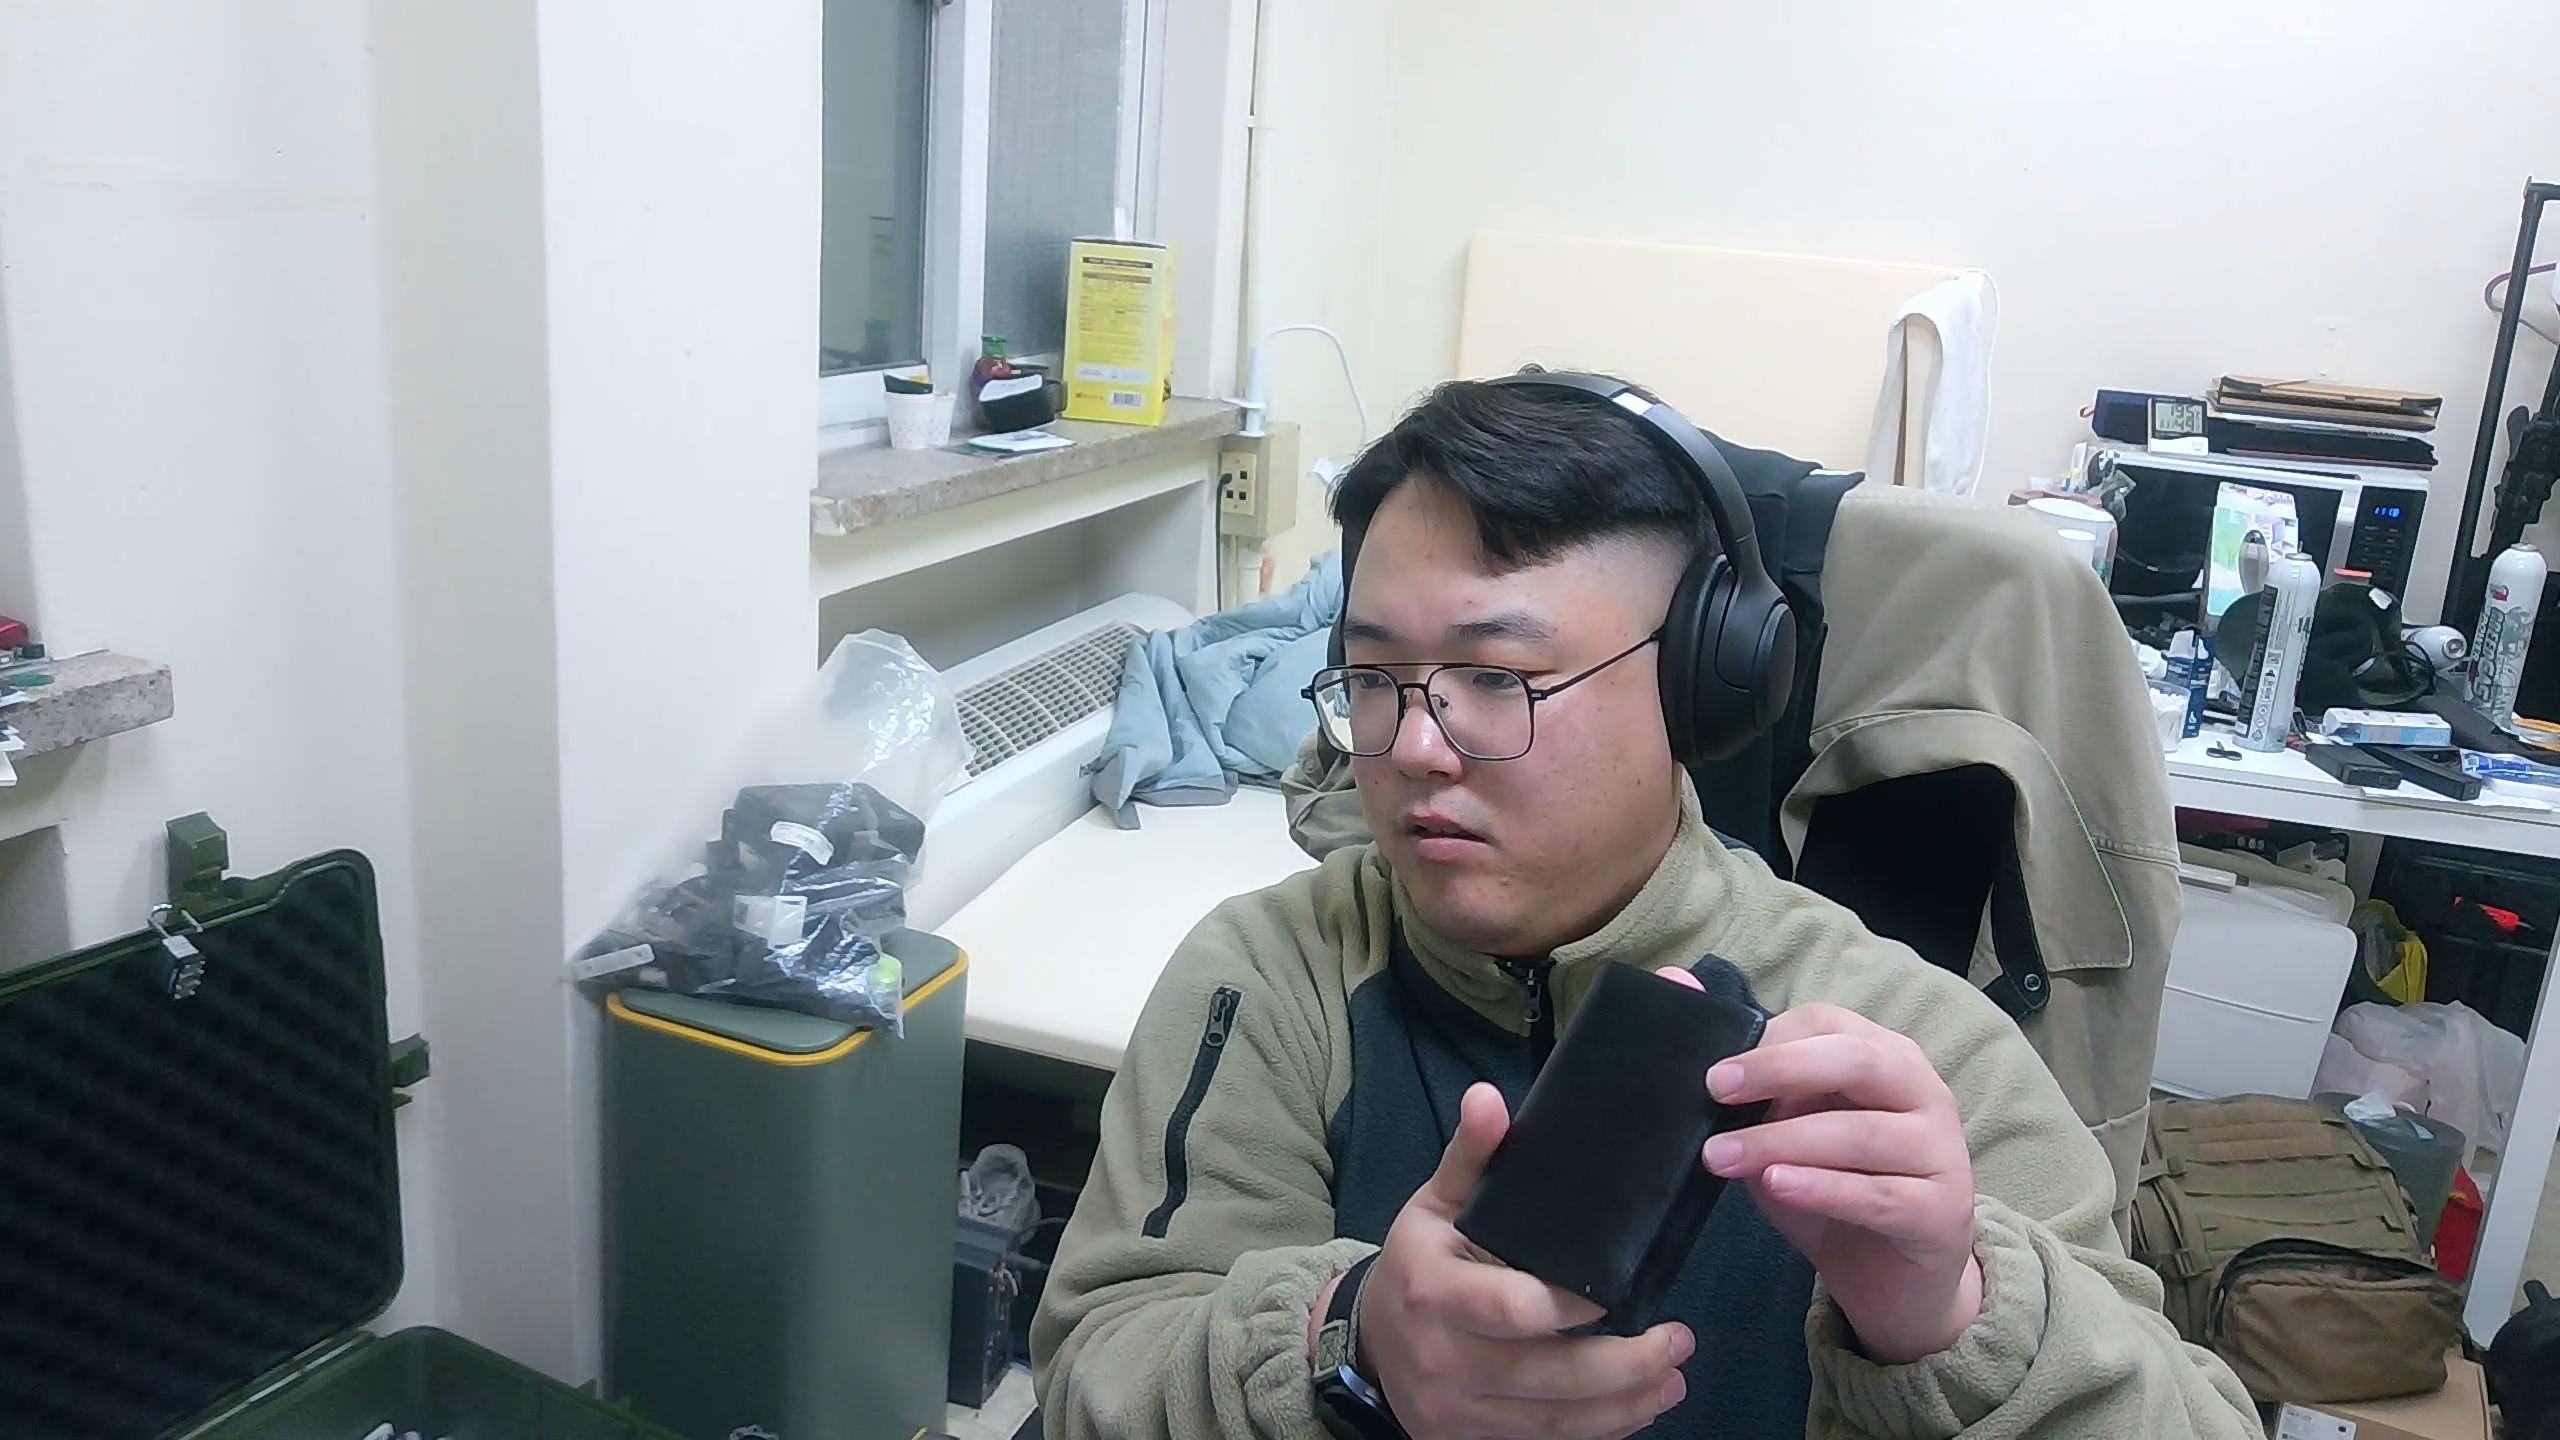Wallet: (1451, 955, 1772, 1342)
